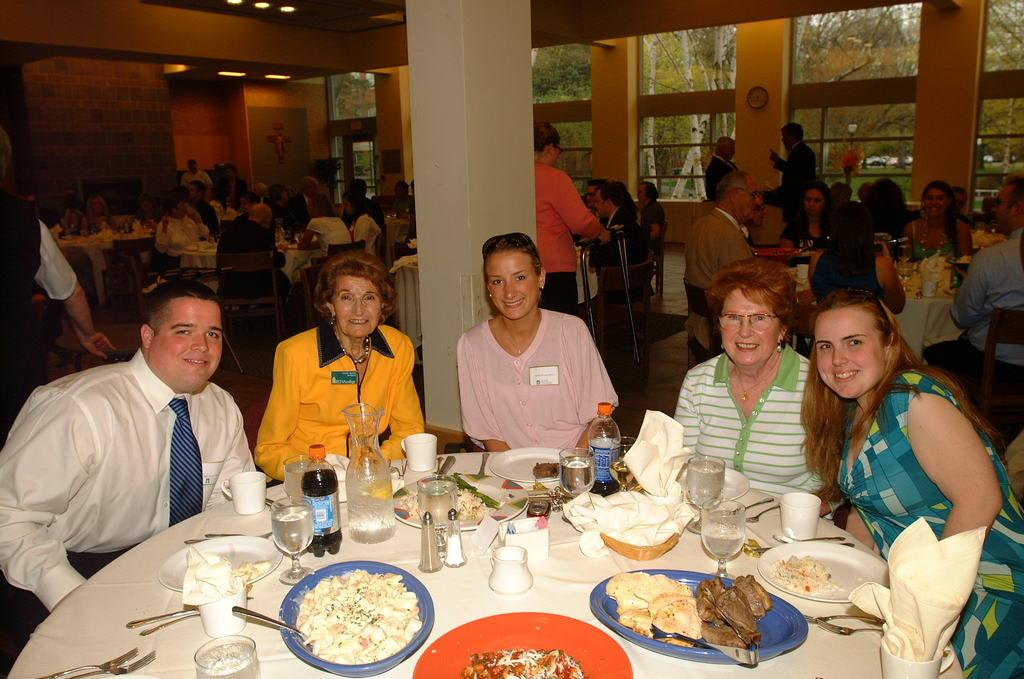Sem Máscara: (812, 311, 882, 400), (152, 296, 218, 384), (717, 291, 780, 371), (479, 250, 534, 320), (333, 274, 377, 337), (983, 185, 1006, 231), (736, 179, 760, 219), (921, 189, 945, 218), (588, 191, 603, 219), (803, 190, 823, 211), (583, 184, 594, 206), (633, 185, 640, 200)
